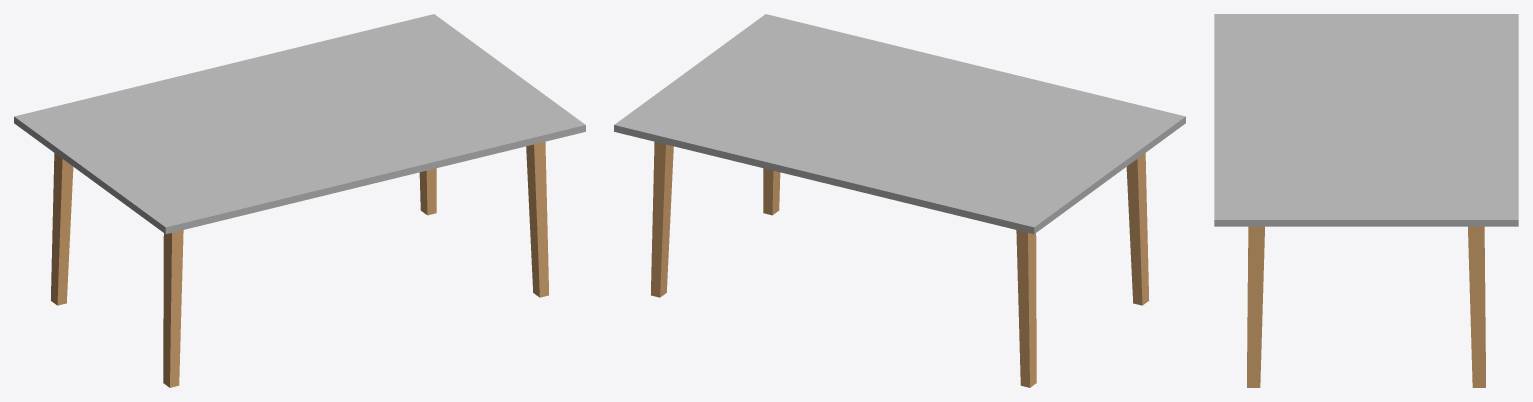
Rendered from Table 2.fbx.
3 views of the same model, side by side, from view 1: azimuth 30°, elevation 25°; view 2: azimuth 150°, elevation 25°; view 3: azimuth 270°, elevation 25° (orthographic).
Parts seen in each view (by area): view 1: Cube; view 2: Cube; view 3: Cube.
Part boxes in pixels (left/top/right/bottom): Cube: left=14, top=14, right=585, bottom=387; Cube: left=614, top=14, right=1185, bottom=387; Cube: left=1214, top=14, right=1518, bottom=387.
Size of the model in its own units: 205 by 82.64 by 128.
